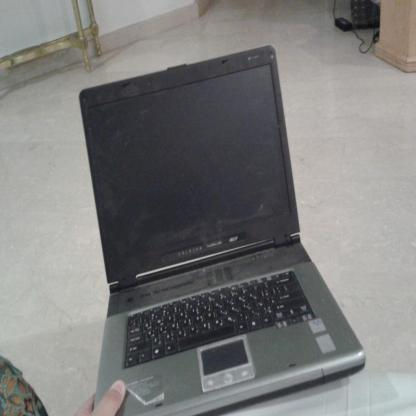board: (78, 43, 365, 415)
